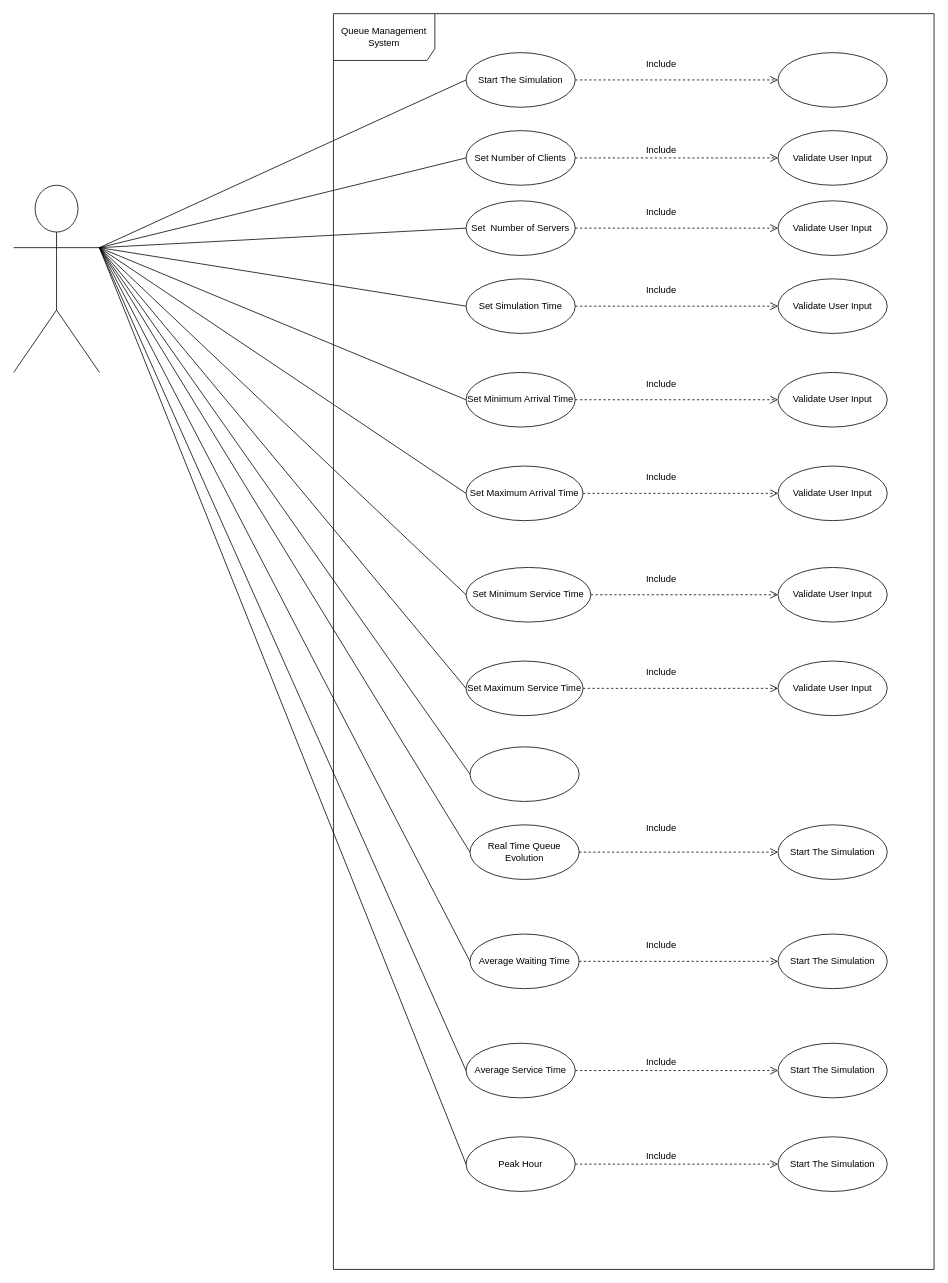
The diagram is 948 pixels wide and 1283 high, and some of its shapes have lost their labels. The centre of each missing label's shape, as x and y in pixels:
"Select Strategy" belongs at point 524,773.
"Setup The Simulation" belongs at point 832,79.
"User" belongs at point 56,278.
